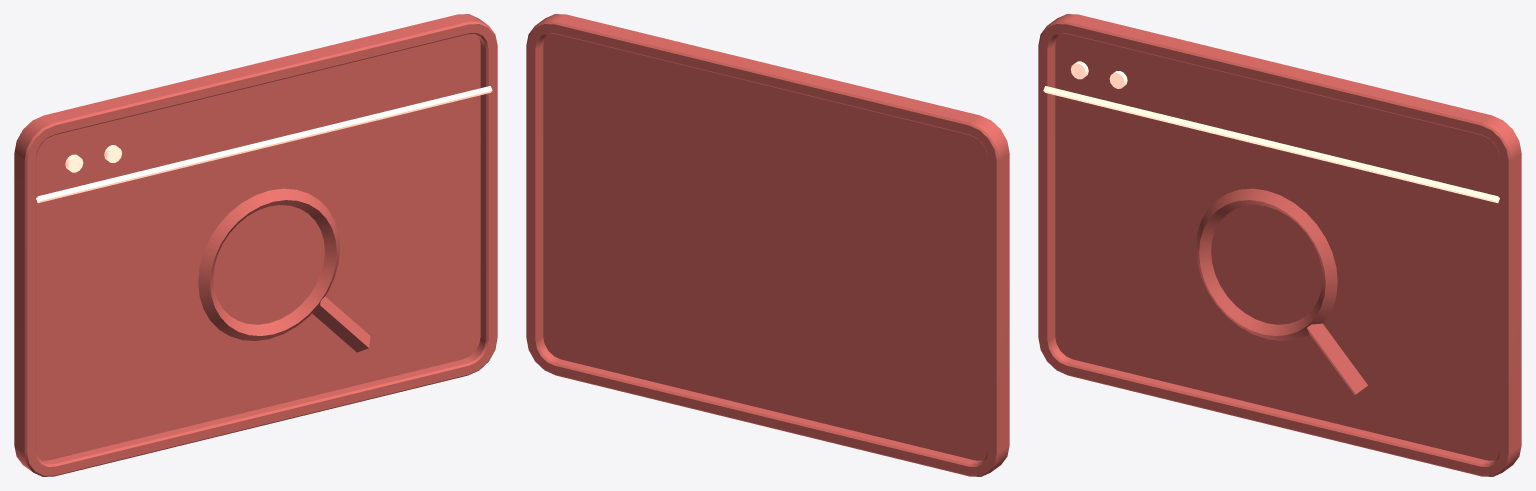
The model's file is pn_ico_muro.glb.
3 renders of one model, left to right at view 1: azimuth 30°, elevation 25°; view 2: azimuth 150°, elevation 25°; view 3: azimuth 330°, elevation 25°, orthographic.
Parts seen in each view (by area): view 1: pn_ico_muro; view 2: pn_ico_muro; view 3: pn_ico_muro.
Part boxes in pixels (box(x1,y1,x2,y2)): pn_ico_muro: box(14, 14, 497, 476); pn_ico_muro: box(526, 14, 1009, 476); pn_ico_muro: box(1038, 14, 1521, 476).
Bounding box in the file's own units: 0.52 × 0.3714 × 0.0469.
